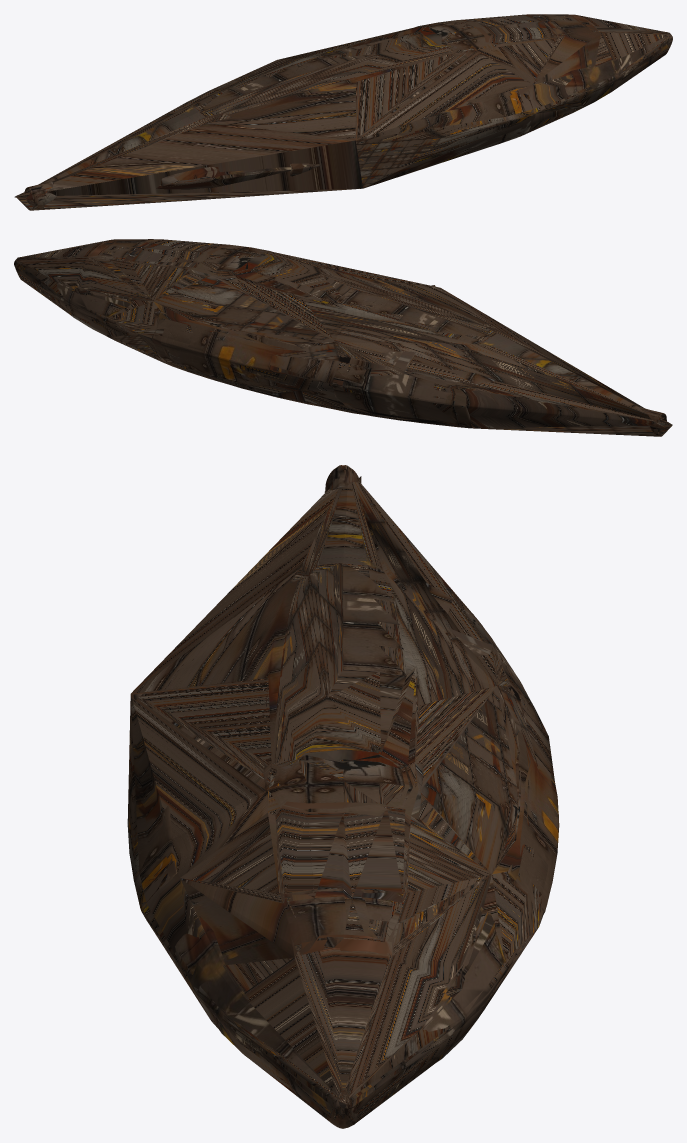
File: hull_starter.glb
The picture shows the model from 3 angles, top to bottom: view 1: azimuth 30°, elevation 25°; view 2: azimuth 150°, elevation 25°; view 3: azimuth 270°, elevation 25°; orthographic projection. The views are drawn at different scales.
Visible parts, largest first — view 1: LOD2_HULL_STARTER_SILHOUETTE, LOD0_HULL_STARTER_MAIN, LOD1_HULL_STARTER_SILHOUETTE; view 2: LOD2_HULL_STARTER_SILHOUETTE, LOD0_HULL_STARTER_MAIN, LOD1_HULL_STARTER_SILHOUETTE; view 3: LOD2_HULL_STARTER_SILHOUETTE, LOD0_HULL_STARTER_MAIN, LOD1_HULL_STARTER_SILHOUETTE.
Boxes of the visible parts, <box> form: LOD2_HULL_STARTER_SILHOUETTE: <box>16,14,672,210</box>; LOD0_HULL_STARTER_MAIN: <box>14,14,670,209</box>; LOD1_HULL_STARTER_SILHOUETTE: <box>25,14,672,209</box>; LOD2_HULL_STARTER_SILHOUETTE: <box>14,239,672,436</box>; LOD0_HULL_STARTER_MAIN: <box>15,239,666,435</box>; LOD1_HULL_STARTER_SILHOUETTE: <box>14,239,667,434</box>; LOD2_HULL_STARTER_SILHOUETTE: <box>127,481,558,1128</box>; LOD0_HULL_STARTER_MAIN: <box>129,465,558,1128</box>; LOD1_HULL_STARTER_SILHOUETTE: <box>127,465,559,1128</box>.
Bounding box in the file's own units: 10.93 × 1.6 × 3.12.
2 materials, 2 textured.
